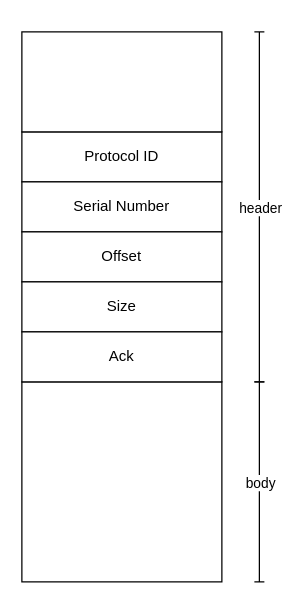
This 303x615 diagram has some shape labels left out. Here are the shapes that lost their labels. From the top down, the centre of each, then its label:
At [121,81]: "NameID".
At [121,481]: "Message fragment".
